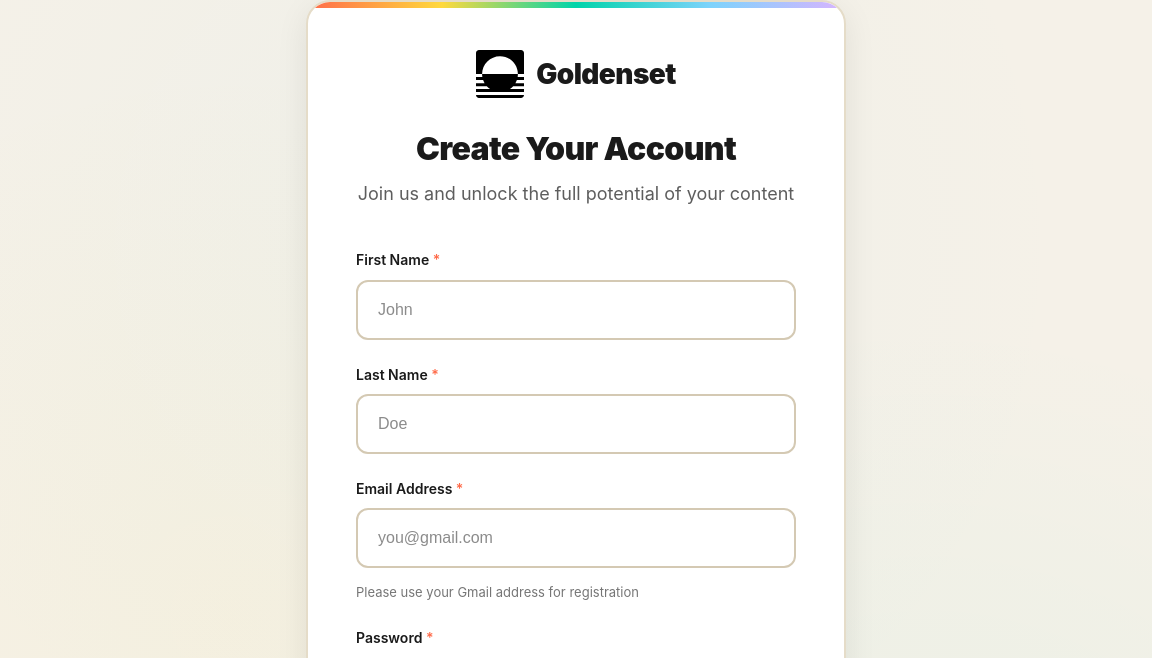
Test: RegistrationForm › should show error for test@gmail.com as already registered
Type "test@gmail.com" into the field labelled "Email Address *".
click(576, 538); type("test@gmail.com")  # box [356,508,796,568]
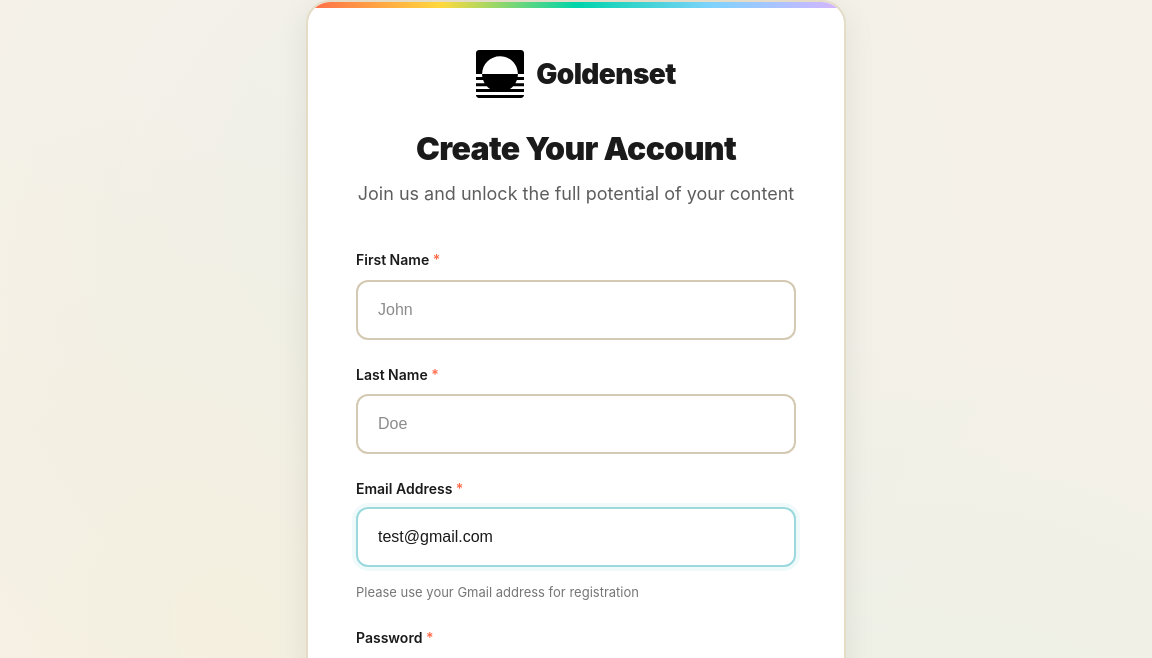
Leave the field labelled "Email Address *", box [356,507,796,567]
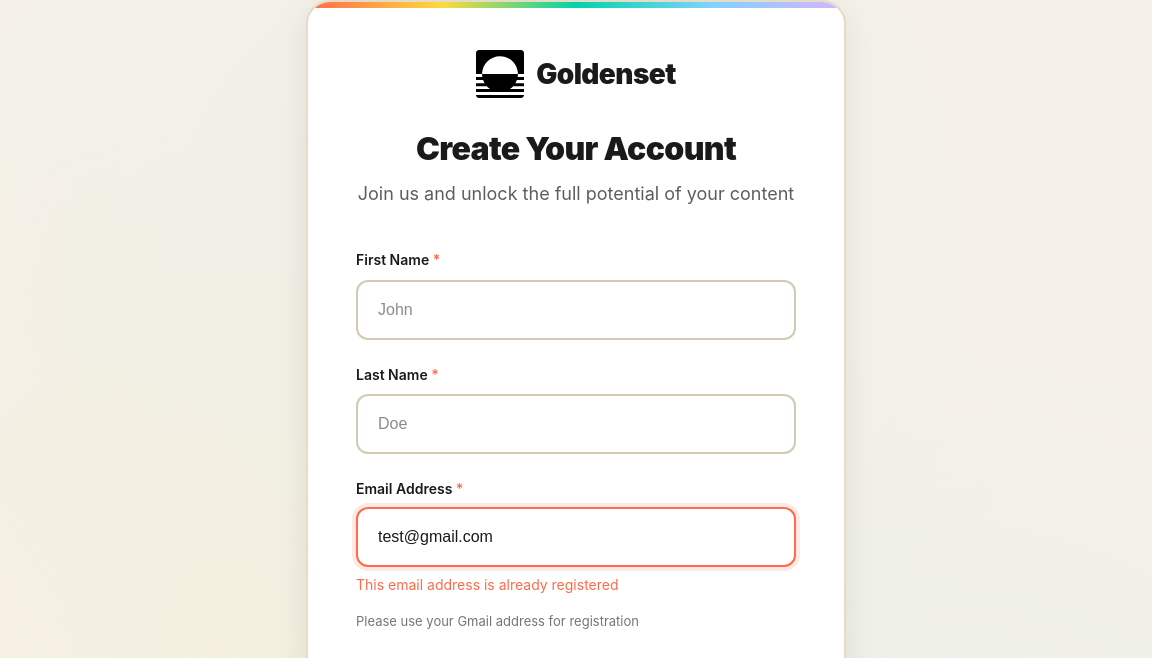
Check: the text "This email address is already registered" is shown, box [356,576,618,593]
